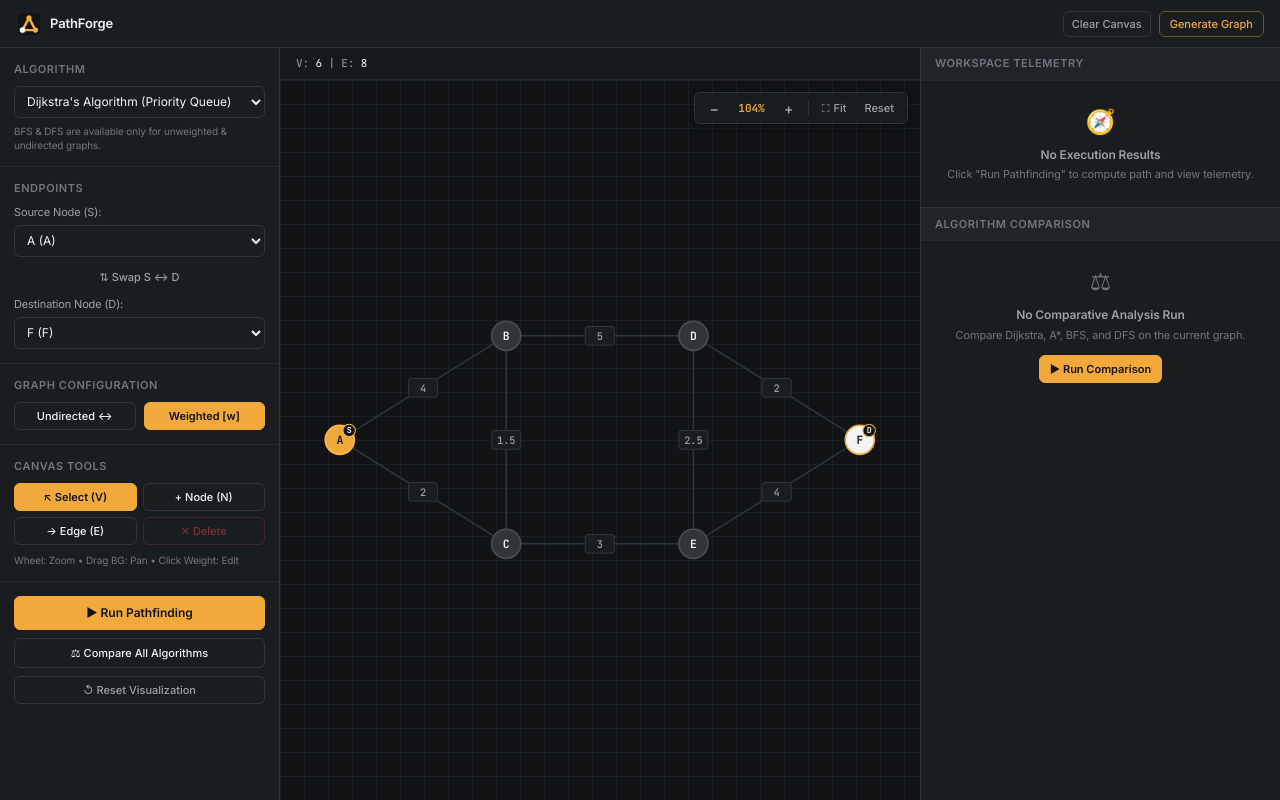
Test: Direct Right Panel (No Tabs) & Refined Dual Results Display › shows BOTH results at the same time with only requested metrics when pathfinding runs
Click the button "▶ Run Pathfinding".
click(140, 613)  # box [14,596,265,630]
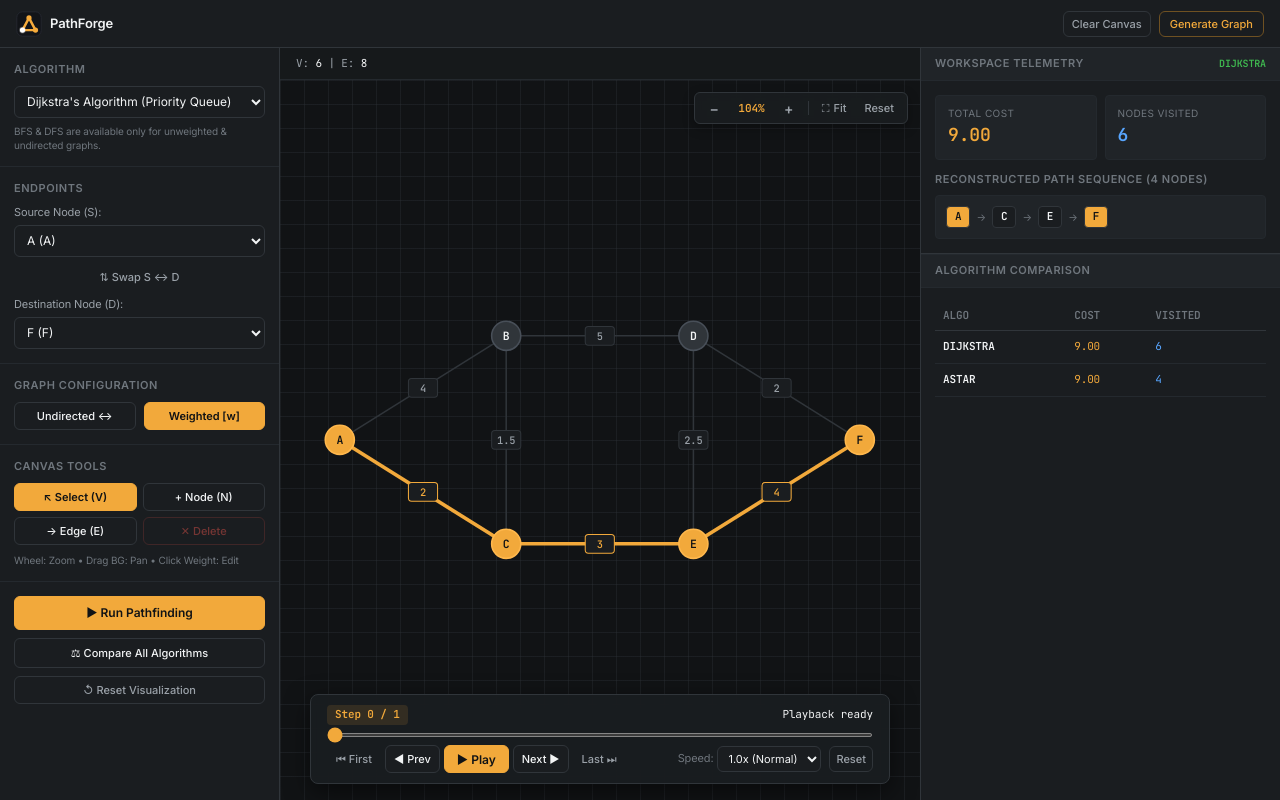
Result: the text "Total Cost" is shown at [948,107,1014,119]
Result: the text "Nodes Visited" is shown at [1118,107,1199,119]
Result: the text "Reconstructed Path Sequence (4 nodes)" is shown at [935,172,1208,186]
